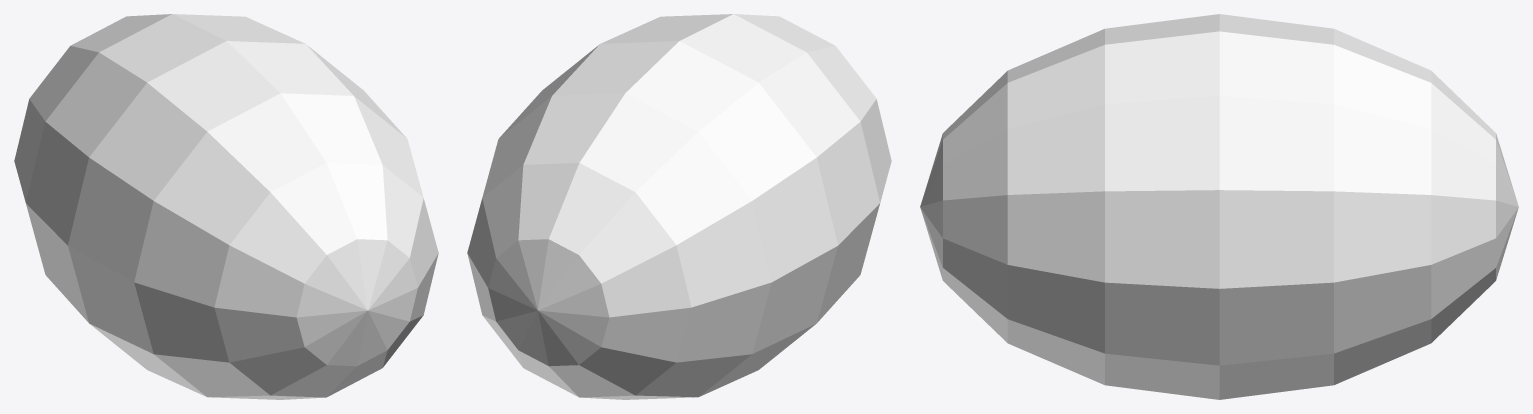
The model's file is head_long.glb.
3 renders of one model, left to right at view 1: azimuth 30°, elevation 25°; view 2: azimuth 150°, elevation 25°; view 3: azimuth 270°, elevation 25°, orthographic. The views are drawn at different scales.
Visible parts, largest first — view 1: head_long; view 2: head_long; view 3: head_long.
Boxes of the visible parts, x1,y1,x2,y2 form: head_long: (14, 14, 438, 399); head_long: (467, 14, 891, 399); head_long: (920, 14, 1518, 399).
Size of the model in its own units: 0.44 by 0.44 by 0.68.
Materials: 1 (1 with a texture image).
